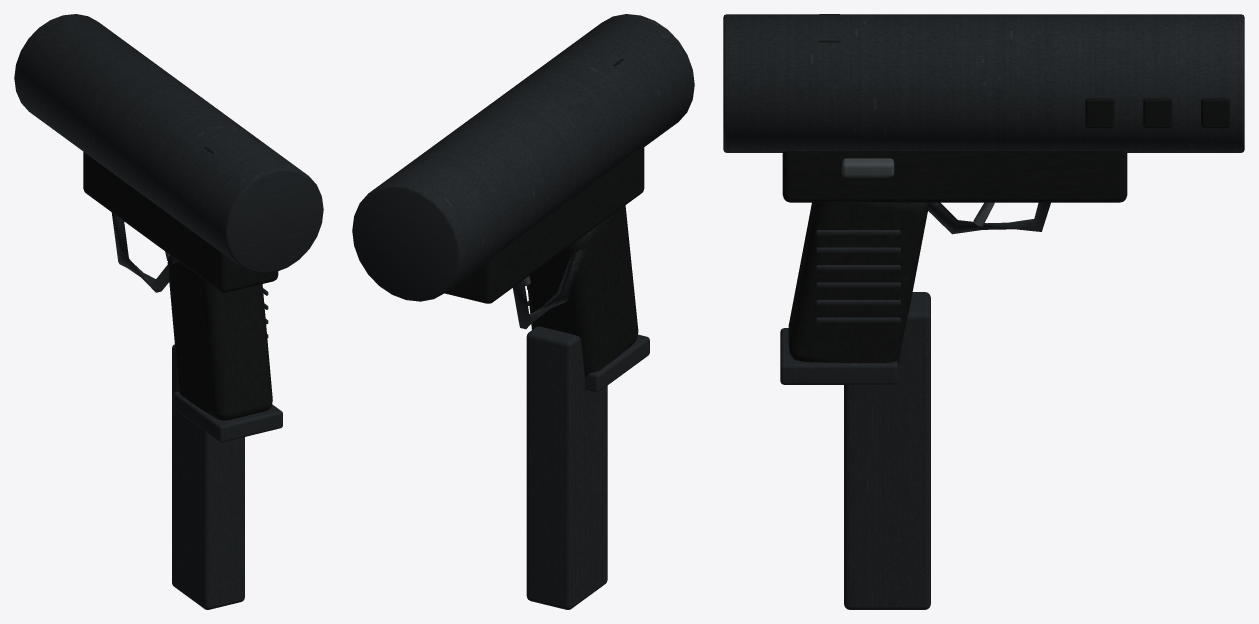
File: tec9.glb
3 views of the same model, side by side, from view 1: azimuth 30°, elevation 25°; view 2: azimuth 150°, elevation 25°; view 3: azimuth 270°, elevation 25° (orthographic). The views are drawn at different scales.
Parts seen in each view (by area): view 1: weapon_Parkerized steel, weapon_Polymer, magazine_Parkerized steel; view 2: weapon_Parkerized steel, magazine_Parkerized steel, weapon_Polymer; view 3: weapon_Parkerized steel, weapon_Polymer, magazine_Parkerized steel, weapon_Machined edges.
Part boxes in pixels (box(x1,y1,x2,y2)): weapon_Parkerized steel: box(14, 14, 323, 338); weapon_Polymer: box(83, 152, 278, 420); magazine_Parkerized steel: box(172, 344, 282, 609); weapon_Parkerized steel: box(352, 14, 694, 329); magazine_Parkerized steel: box(526, 326, 649, 609); weapon_Polymer: box(444, 147, 644, 377); weapon_Parkerized steel: box(723, 14, 1244, 322); weapon_Polymer: box(782, 98, 1229, 364); magazine_Parkerized steel: box(780, 292, 930, 609); weapon_Machined edges: box(842, 158, 894, 177).
Size of the model in its own units: 0.0735 by 0.331 by 0.27.
4 materials, 4 textured.
